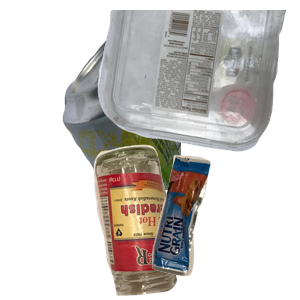glass: (91, 142, 260, 300)
metal: (60, 10, 300, 190)
plastic: (95, 10, 300, 154)
trash: (149, 152, 300, 300)
